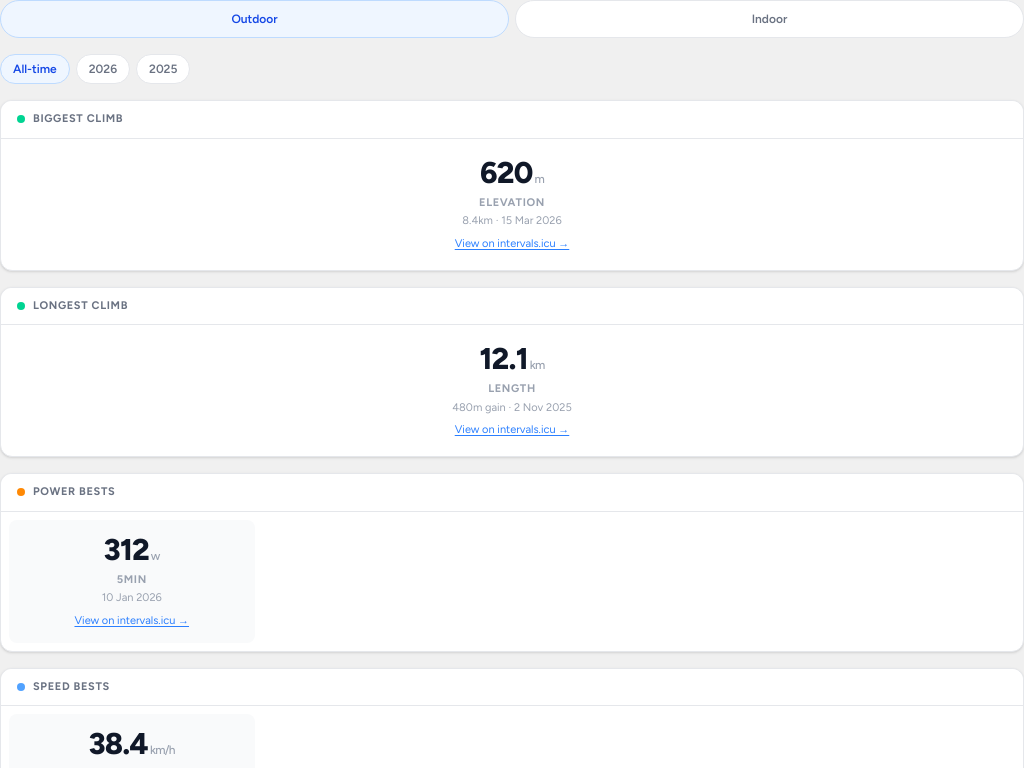
Scenario: AllTimeBestsTab › clicking a year chip re-scopes the sections without an extra fetch
The width and height of the screenshot is (1024, 768).
Expected: the text "620" is shown, [480,154,532,190]
Click the button "2025" at point(163, 69), box [136,54,190,84]
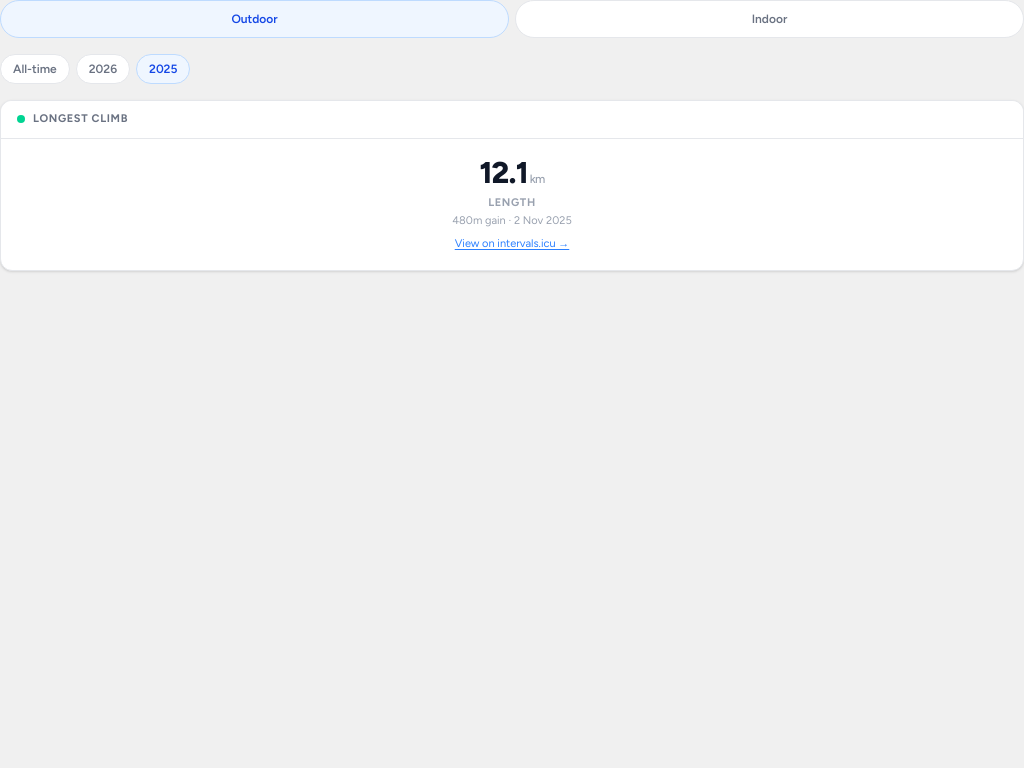
Expected: the text "12.1" is shown, [480,154,528,190]
Now the text "620" is gone
